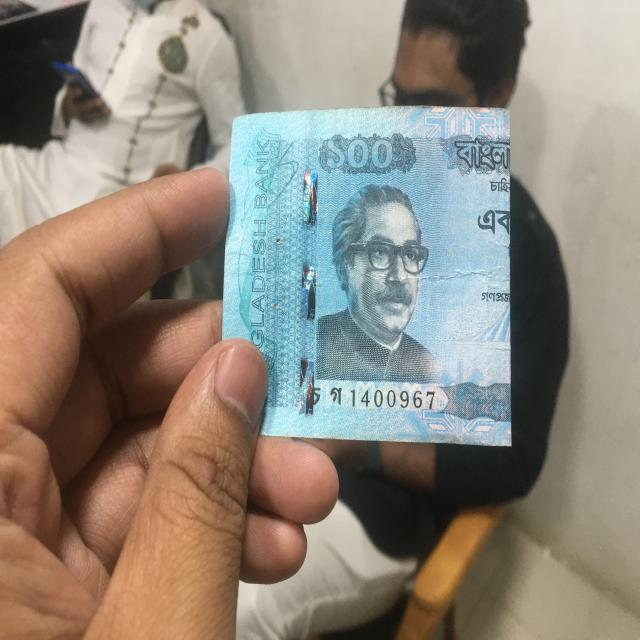Taka: (232, 114, 514, 452)
